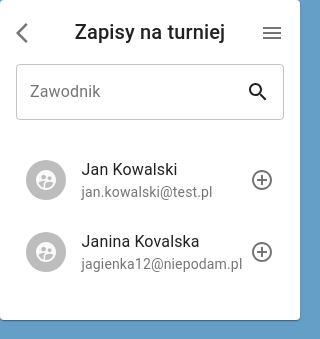
Test: Tournament Registrations › when search for player that not exists, then show alert about registering new player profile
Type "Mufasa" into the field labelled "Zawodnik". click: [131, 92]
box: x1=16 y1=64 x2=246 y2=120
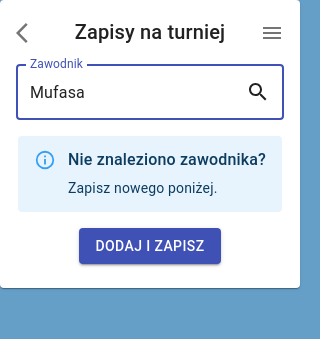
expect the text "Nie znaleziono zawodnika?" is shown: met, box x1=68 y1=148 x2=266 y2=172
expect the text "Dodaj i zapisz" is shown: met, box x1=96 y1=234 x2=205 y2=258
